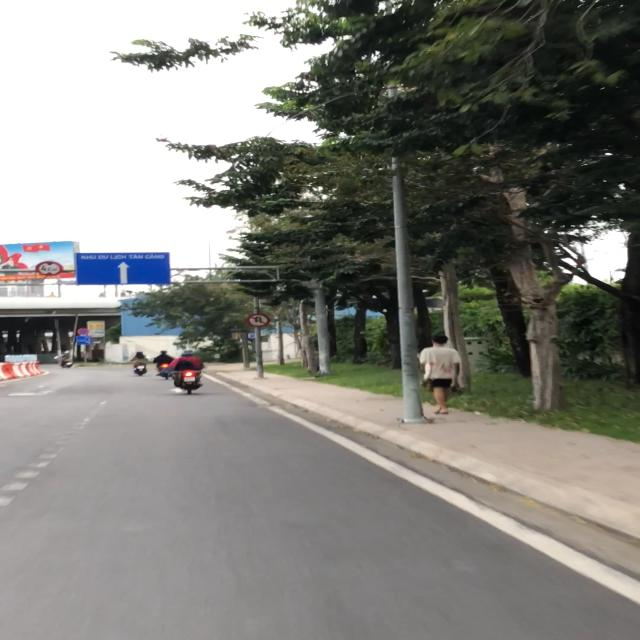Bien bao cam quay dau xe: (245, 312, 272, 328)
Bien bao han che chieu cao: (34, 260, 64, 277)
